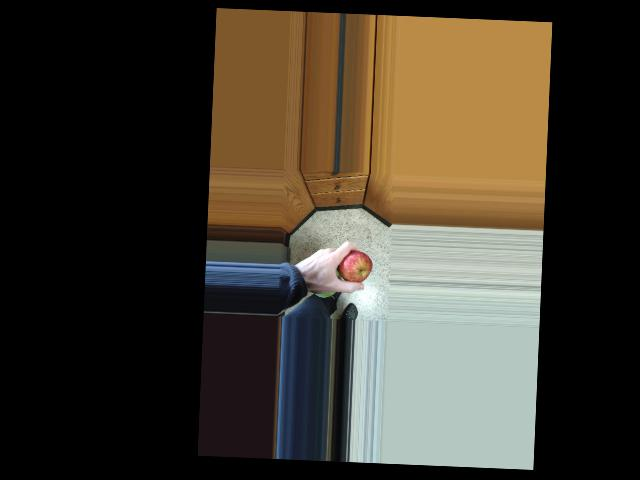apple: (332, 247, 374, 288)
